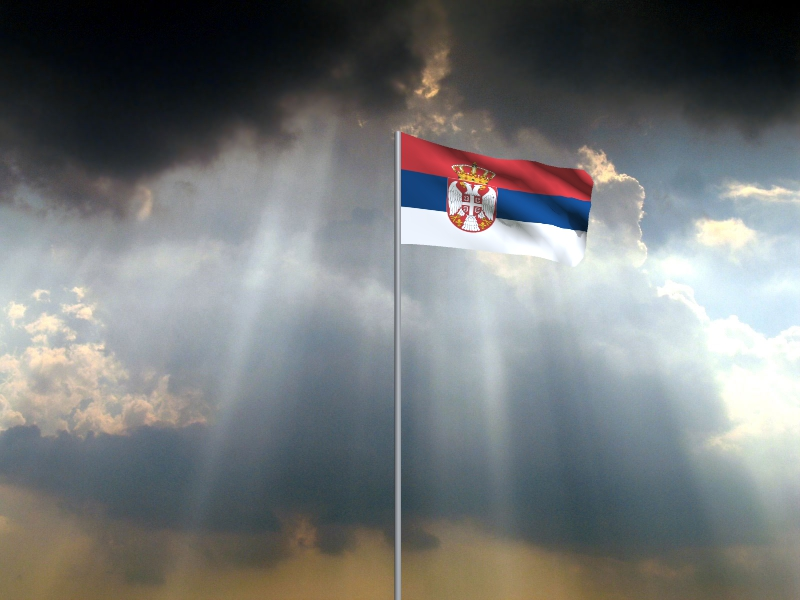rs: (402, 133, 594, 269)
